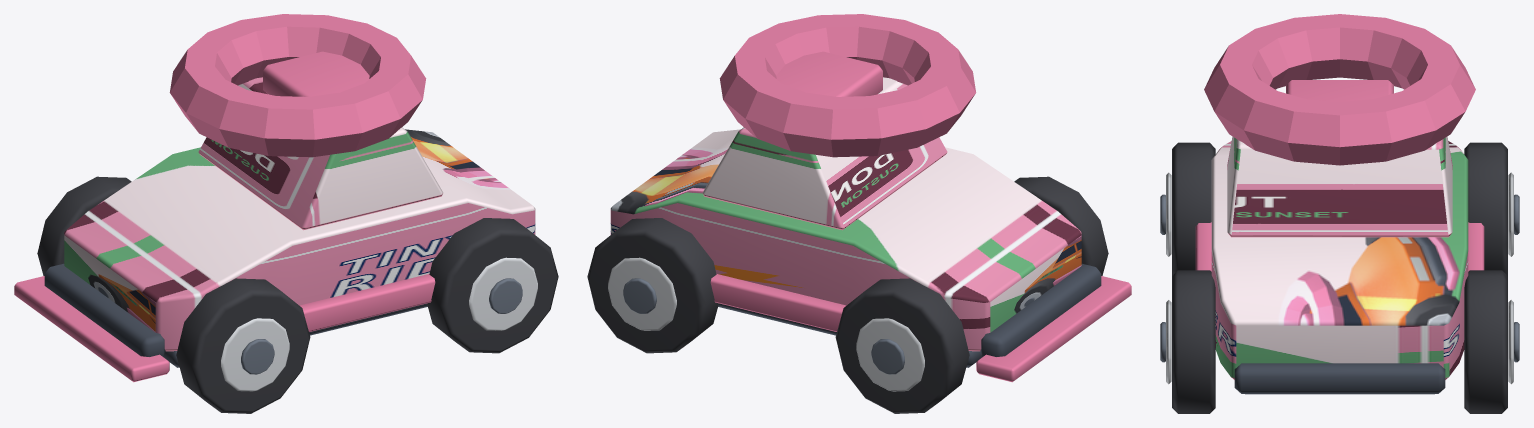
3 views of the same model, side by side, from view 1: azimuth 30°, elevation 25°; view 2: azimuth 150°, elevation 25°; view 3: azimuth 270°, elevation 25° (orthographic). The views are drawn at different scales.
Visible parts, largest first — view 1: SS-05_connected_shell, real donut ring, SS-05_cabin, Tire, Tire.002, custom chin, front bumper, custom side guard, custom equipment, Tire.001, Rim, Rim.002 (+3 smaller); view 2: SS-05_connected_shell, real donut ring, SS-05_cabin, Tire.001, Tire.003, custom chin, front bumper, custom side guard.001, custom equipment, Tire, Rim.001, Rim.003 (+3 smaller); view 3: SS-05_connected_shell, real donut ring, SS-05_cabin, rear bumper, Tire.002, Tire.003, Tire, Tire.001, custom equipment, custom side guard, custom side guard.001, Rim (+3 smaller).
Part boxes in pixels (bbox=[...]): SS-05_connected_shell: bbox=[64, 129, 535, 351]; real donut ring: bbox=[169, 14, 426, 157]; SS-05_cabin: bbox=[198, 77, 443, 230]; Tire: bbox=[176, 278, 310, 413]; Tire.002: bbox=[427, 218, 558, 353]; custom chin: bbox=[14, 276, 169, 382]; front bumper: bbox=[44, 263, 165, 356]; custom side guard: bbox=[299, 274, 435, 331]; custom equipment: bbox=[263, 51, 369, 96]; Tire.001: bbox=[37, 176, 131, 275]; Rim: bbox=[221, 318, 289, 391]; Rim.002: bbox=[469, 257, 537, 330]; SS-05_connected_shell: bbox=[610, 129, 1081, 351]; real donut ring: bbox=[719, 14, 976, 157]; SS-05_cabin: bbox=[702, 77, 947, 230]; Tire.001: bbox=[835, 278, 969, 413]; Tire.003: bbox=[587, 218, 718, 353]; custom chin: bbox=[976, 276, 1131, 382]; front bumper: bbox=[980, 263, 1101, 356]; custom side guard.001: bbox=[710, 274, 846, 331]; custom equipment: bbox=[776, 51, 882, 96]; Tire: bbox=[1014, 176, 1108, 275]; Rim.001: bbox=[856, 318, 924, 391]; Rim.003: bbox=[608, 257, 676, 330]; SS-05_connected_shell: bbox=[1211, 141, 1468, 379]; real donut ring: bbox=[1204, 14, 1475, 165]; SS-05_cabin: bbox=[1227, 136, 1452, 237]; rear bumper: bbox=[1234, 363, 1445, 393]; Tire.002: bbox=[1172, 270, 1215, 413]; Tire.003: bbox=[1464, 270, 1507, 413]; Tire: bbox=[1172, 142, 1215, 275]; Tire.001: bbox=[1464, 142, 1507, 275]; custom equipment: bbox=[1286, 80, 1393, 101]; custom side guard: bbox=[1195, 222, 1211, 271]; custom side guard.001: bbox=[1468, 222, 1484, 271]; Rim: bbox=[1166, 172, 1171, 256].
Bounding box in the file's own units: 309 × 183 × 214.
